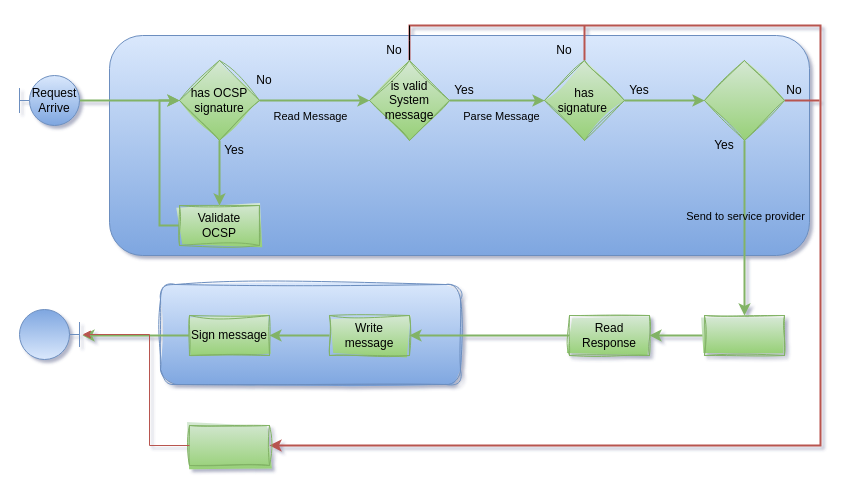
This 853x489 diagram has some shape labels left out. Here are the shapes that lost their labels. From the top down, the centre of each, then its label:
At point (744, 100): "is message valid (signature)".
At point (49, 334): "Send Response".
At point (744, 335): "Servie Provider".
At point (229, 445): "Prepare Fail Response".
